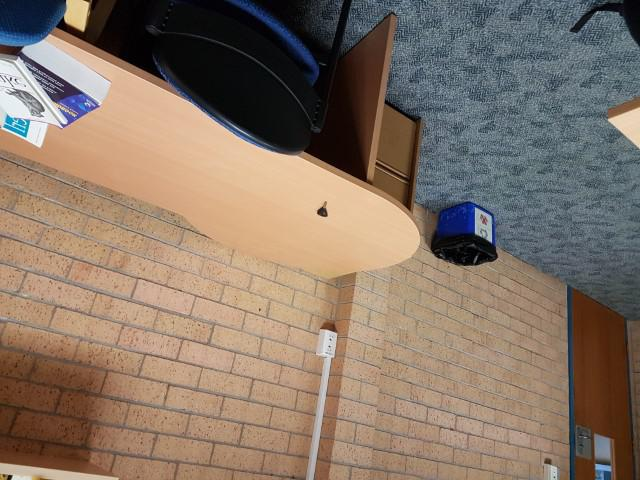key: (317, 201, 328, 218)
